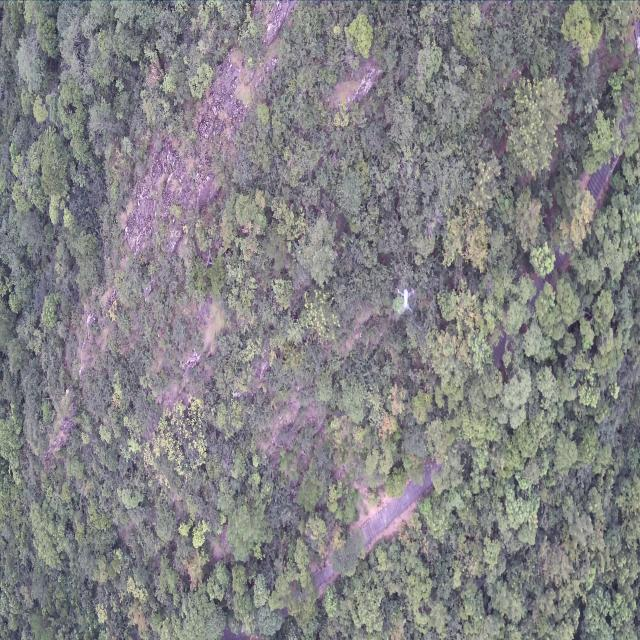UAV: (397, 286, 415, 314)
